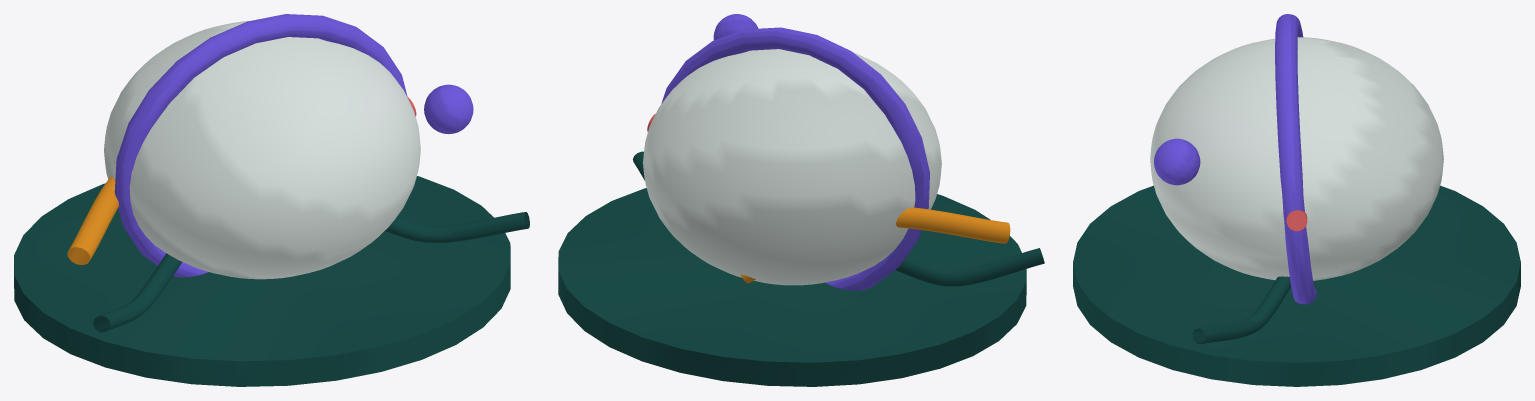
File: 0432_微生物图鉴_甲烷八叠球菌.glb
The picture shows the model from 3 angles, left to right: view 1: azimuth 30°, elevation 25°; view 2: azimuth 150°, elevation 25°; view 3: azimuth 270°, elevation 25°; orthographic projection. The views are drawn at different scales.
Parts seen in each view (by area): view 1: card_0432; view 2: card_0432; view 3: card_0432.
Part boxes in pixels (<box>): card_0432: <box>14,14,529,386</box>; card_0432: <box>558,14,1044,386</box>; card_0432: <box>1073,14,1520,386</box>.
Bounding box in the file's own units: 1.68 × 1 × 1.58.
